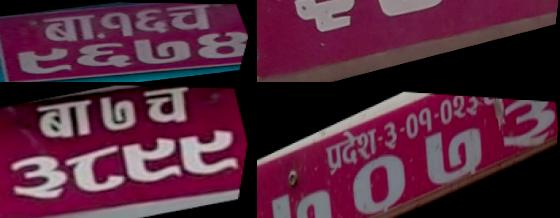0: (347, 137, 413, 218), (436, 92, 456, 128), (402, 105, 421, 141)
1: (88, 7, 145, 40), (413, 98, 436, 137)
2: (449, 92, 469, 122)
3: (263, 0, 379, 58), (0, 148, 84, 211), (493, 95, 560, 163), (379, 114, 403, 154), (461, 93, 481, 119)
4: (186, 25, 252, 62)
6: (66, 37, 145, 74), (122, 4, 178, 38)
7: (418, 101, 490, 196), (336, 0, 464, 35), (269, 162, 340, 218), (123, 31, 206, 68), (90, 88, 150, 136)
8: (55, 137, 141, 202)
9: (168, 117, 253, 182), (113, 127, 197, 191), (7, 43, 89, 80)
ba: (26, 92, 108, 148), (31, 9, 112, 48)
cha: (134, 85, 204, 130), (155, 2, 226, 35), (478, 94, 502, 110)
